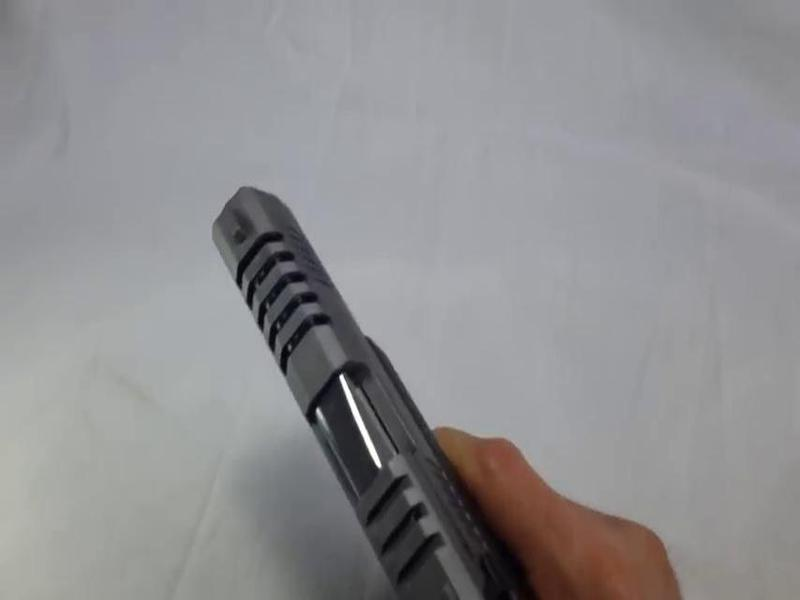Pistola: (178, 136, 547, 600)
